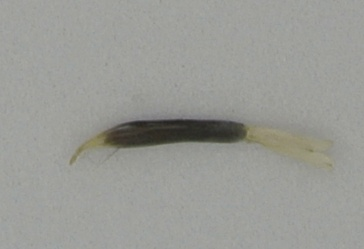เมล้ดปลายพู่กัน: (66, 116, 338, 174)
